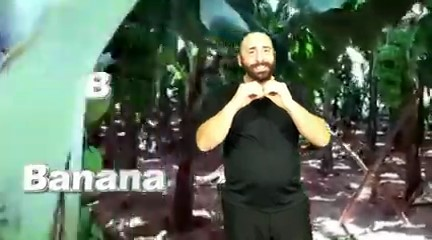B: (223, 74, 300, 114)
